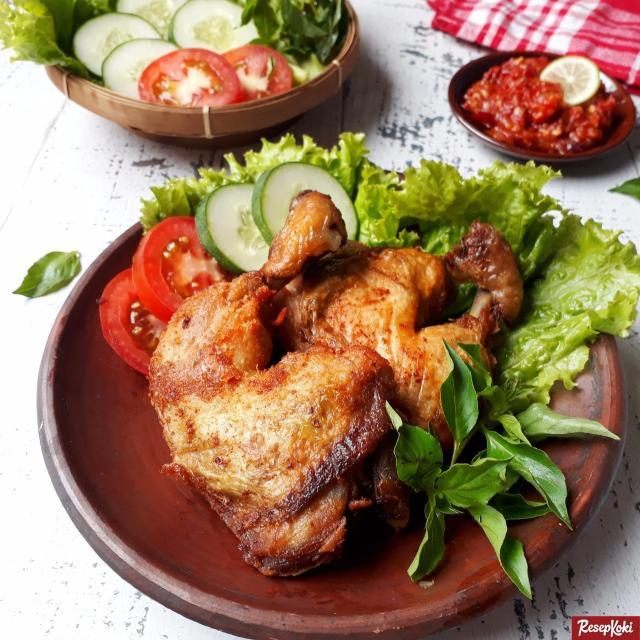ayam_goreng: (126, 170, 518, 562)
